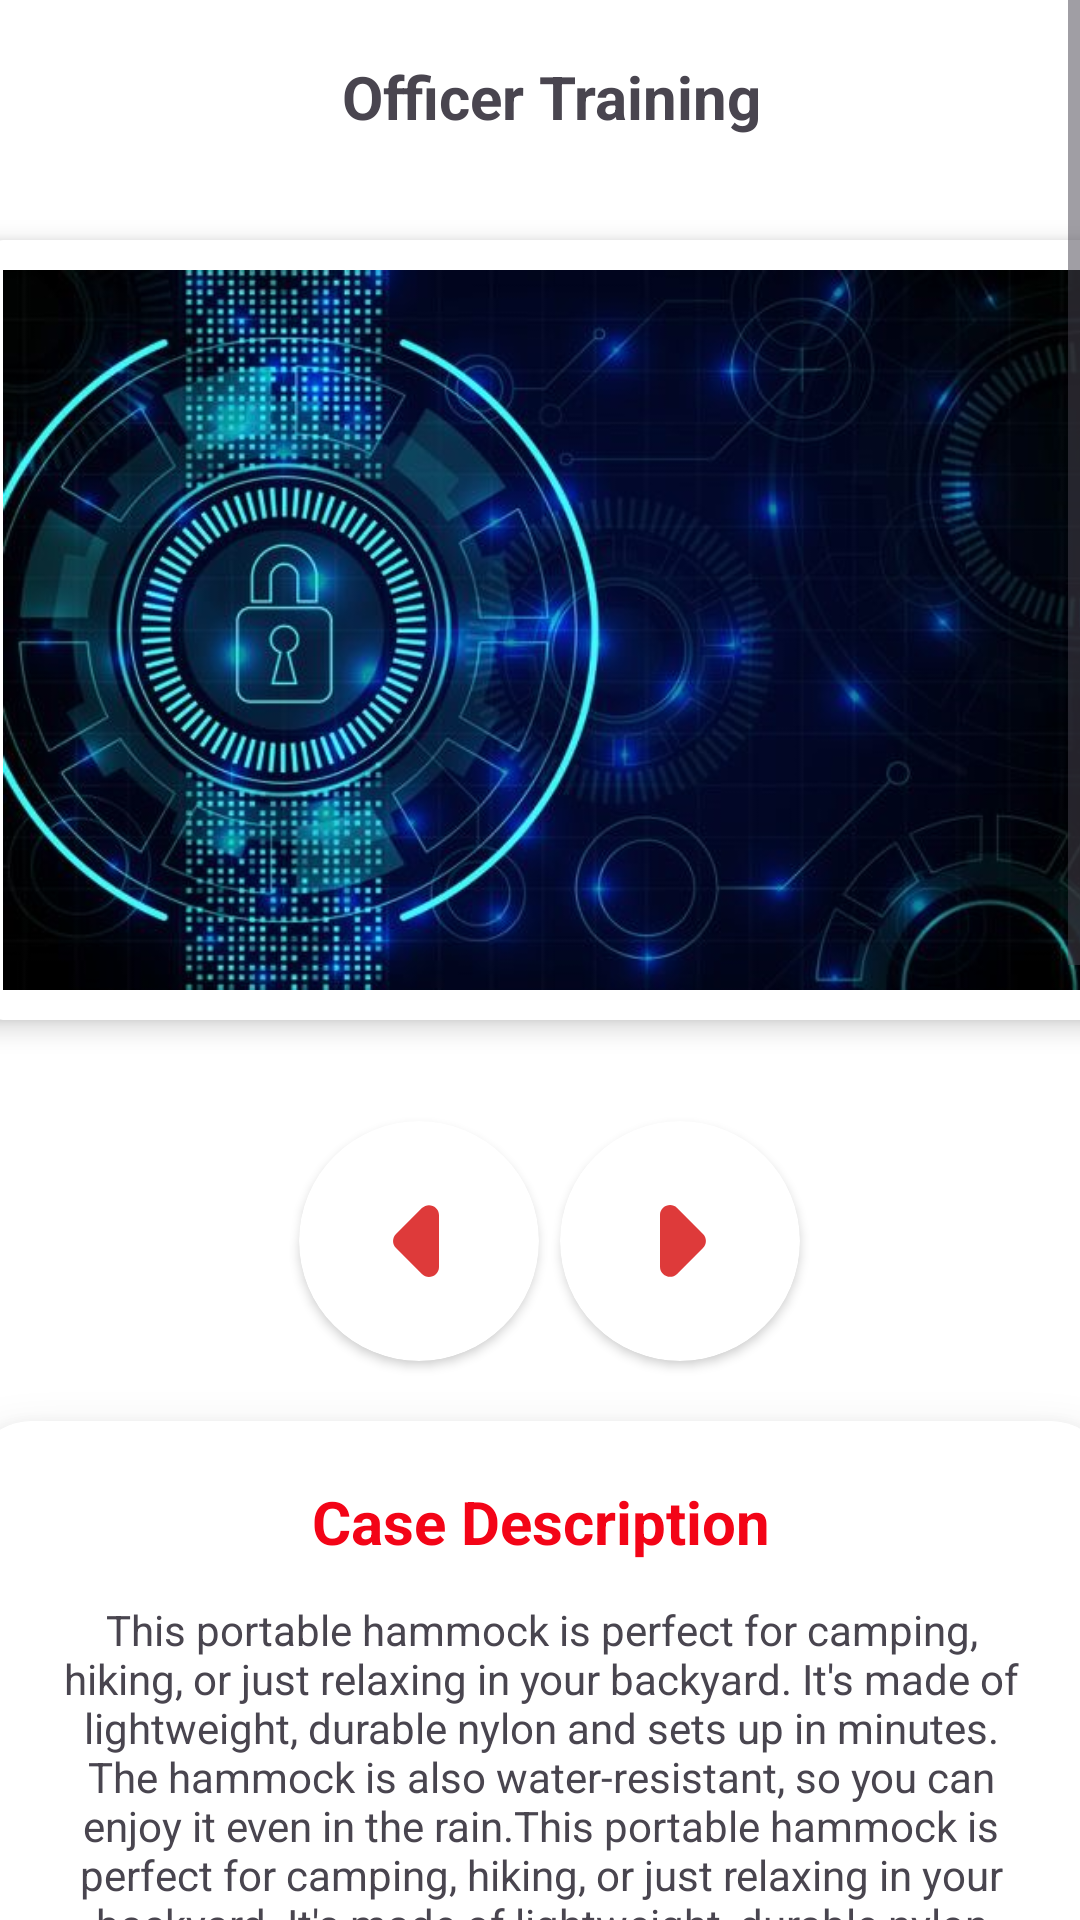

Named icons in this screenshot (1080w x 1920h) and their centers, [x,y]:
previous: [414,1283]
